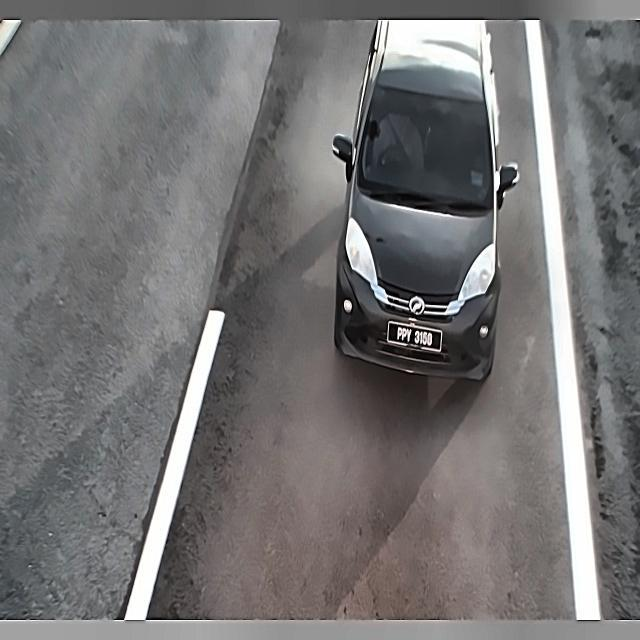car: (380, 312, 450, 358)
